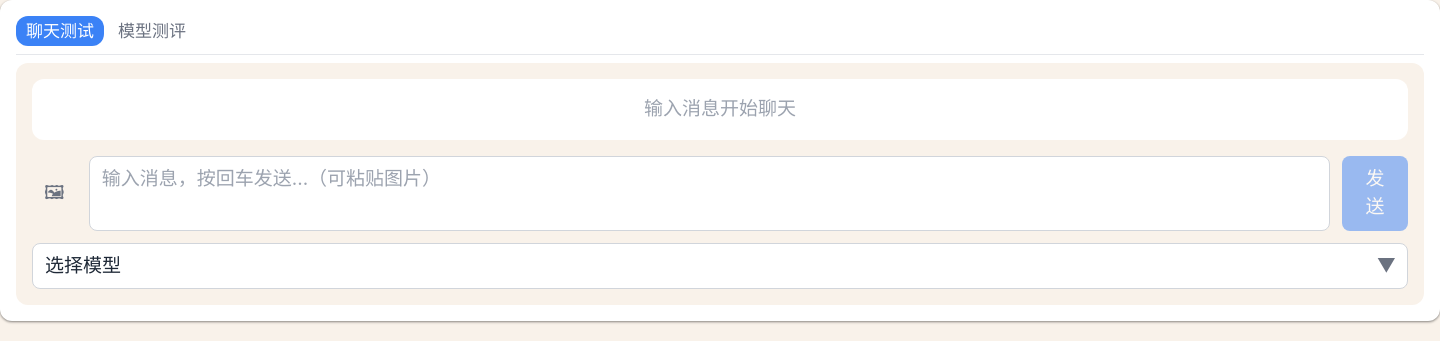
Test: ChatEvalPanel › switches to the eval tab
The width and height of the screenshot is (1440, 341).
Click the button "模型测评": (152, 31) [108, 16, 196, 46]
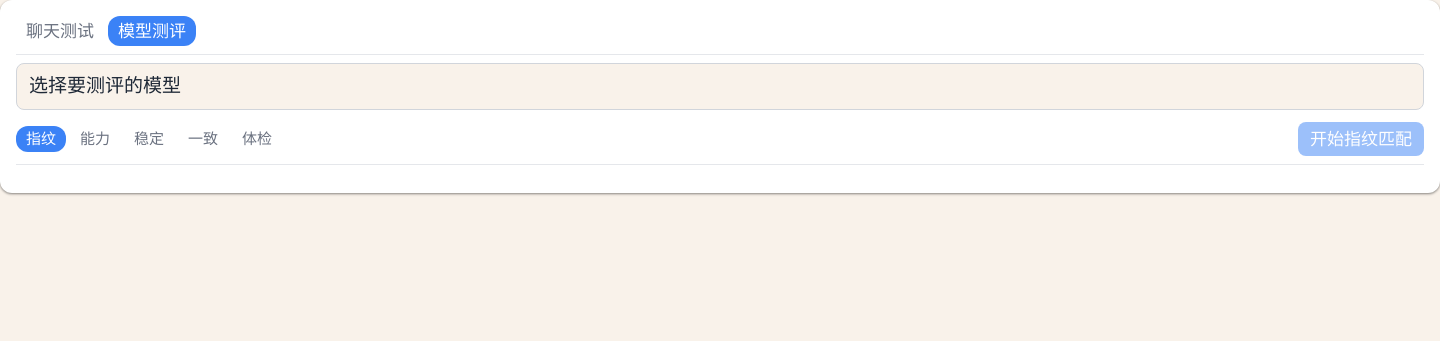
Check: the button "能力" is shown, box [70, 126, 120, 152]
Check: the button "体检" is shown, box [232, 126, 282, 152]
